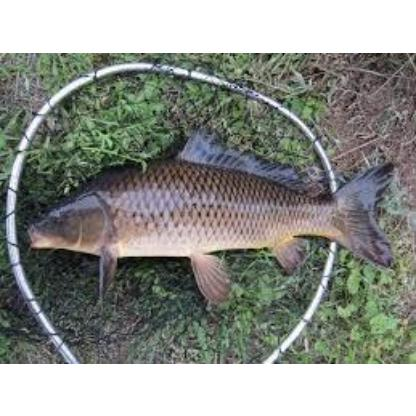ikan-mas: (25, 155, 397, 280)
